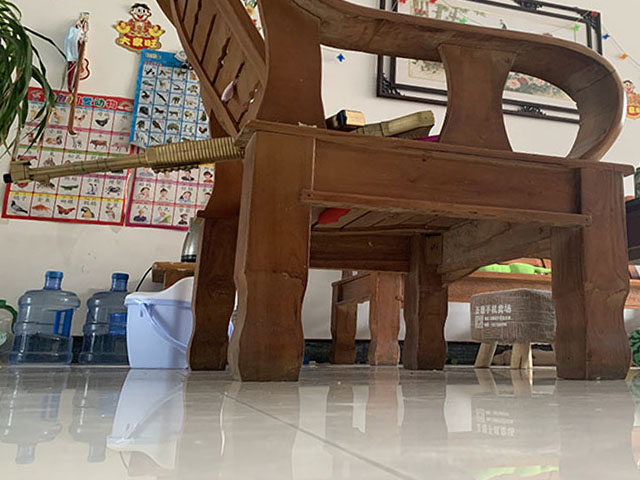sofa: (151, 1, 636, 380)
stool: (470, 287, 557, 371)
trashcan: (123, 274, 194, 369)
